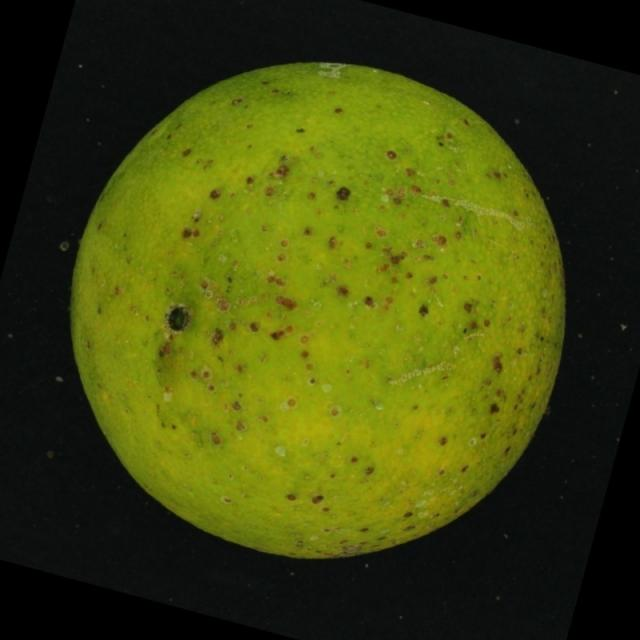grenning: (50, 52, 598, 579)
